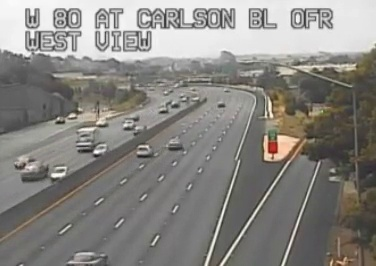car: (136, 144, 152, 157), (167, 139, 182, 150)
